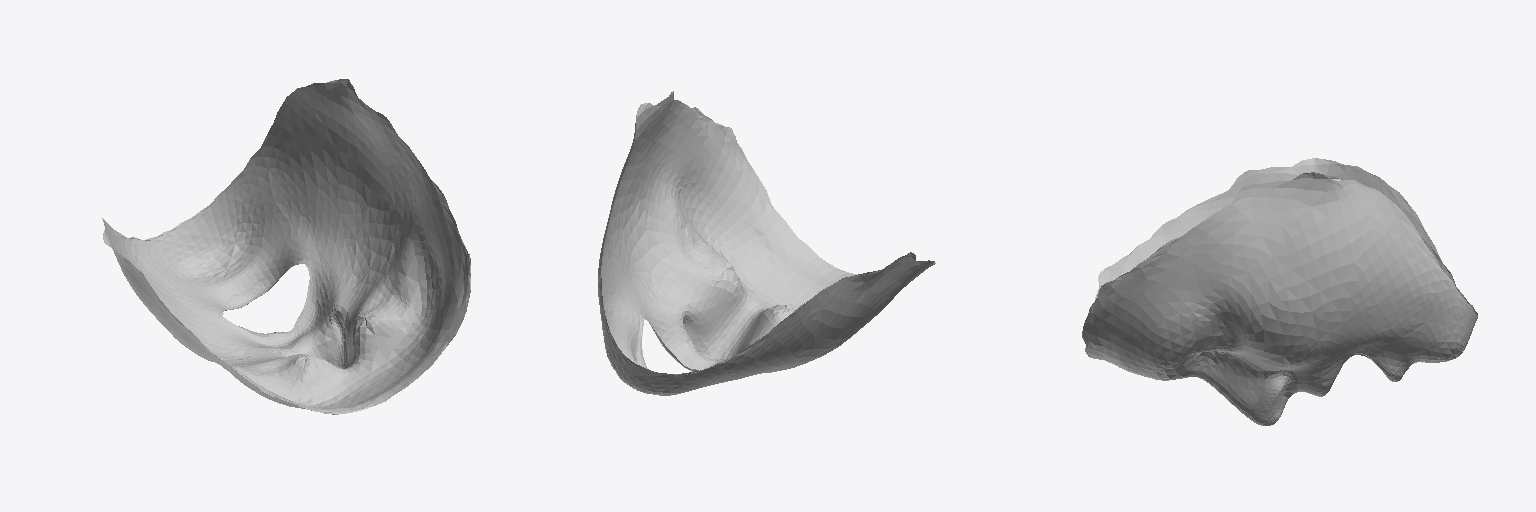
The model's file is face_gab_sfm72.obj.
The picture shows the model from 3 angles: view 1: azimuth 30°, elevation 25°; view 2: azimuth 150°, elevation 25°; view 3: azimuth 270°, elevation 25°; orthographic projection.
Bounding box in the file's own units: 167 × 163 × 214.